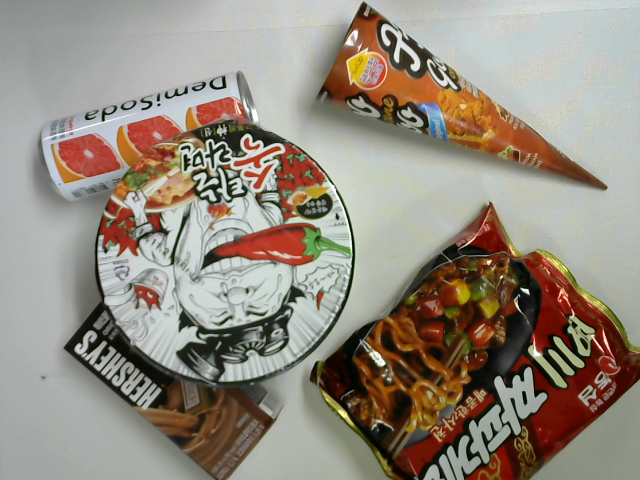Demisoda_Grapefruit_Can_250ml: (30, 66, 275, 214)
GooGoo_Cone_CVS: (303, 1, 628, 201)
HeJangsock: (83, 119, 362, 394)
Hush_Choco_Drink: (56, 294, 295, 480)
Sichuan_Chapaghetti: (296, 194, 640, 480)
